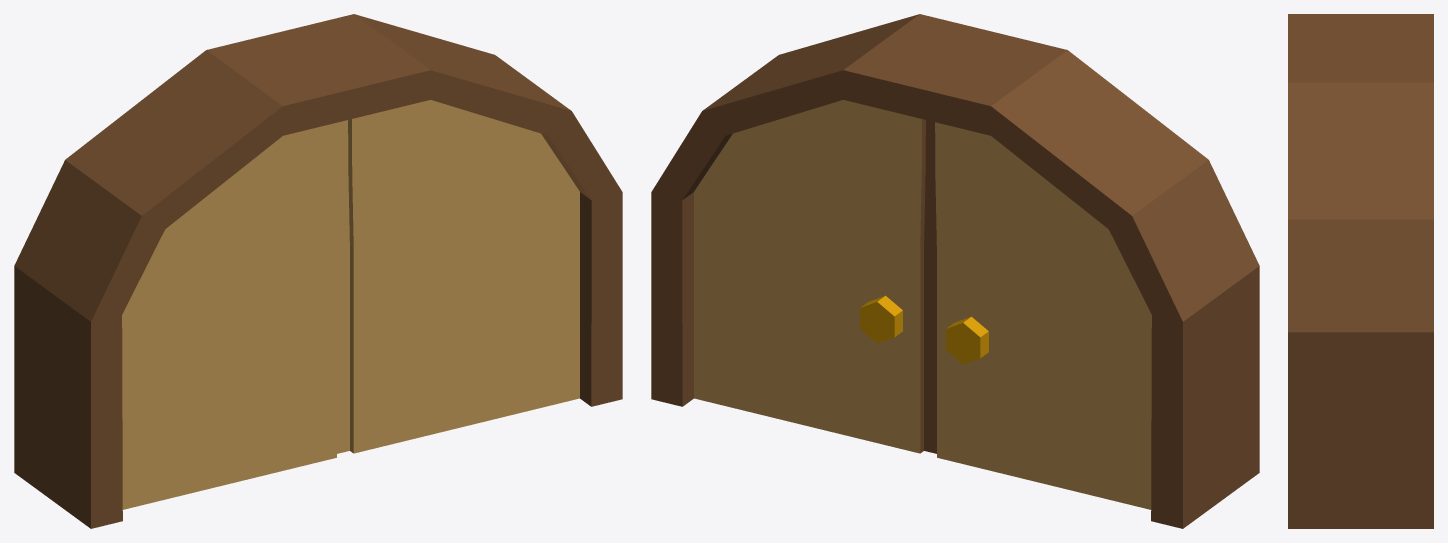
The model's file is Door.fbx.
3 renders of one model, left to right at view 1: azimuth 30°, elevation 25°; view 2: azimuth 150°, elevation 25°; view 3: azimuth 270°, elevation 25°, orthographic. The views are drawn at different scales.
Parts seen in each view (by area): view 1: Cylinder; view 2: Cylinder; view 3: Cylinder.
Boxes of the visible parts, <box> form: Cylinder: <box>14,14,622,528</box>; Cylinder: <box>651,14,1259,528</box>; Cylinder: <box>1288,14,1433,528</box>.
Bounding box in the file's own units: 800 × 541 × 200.
